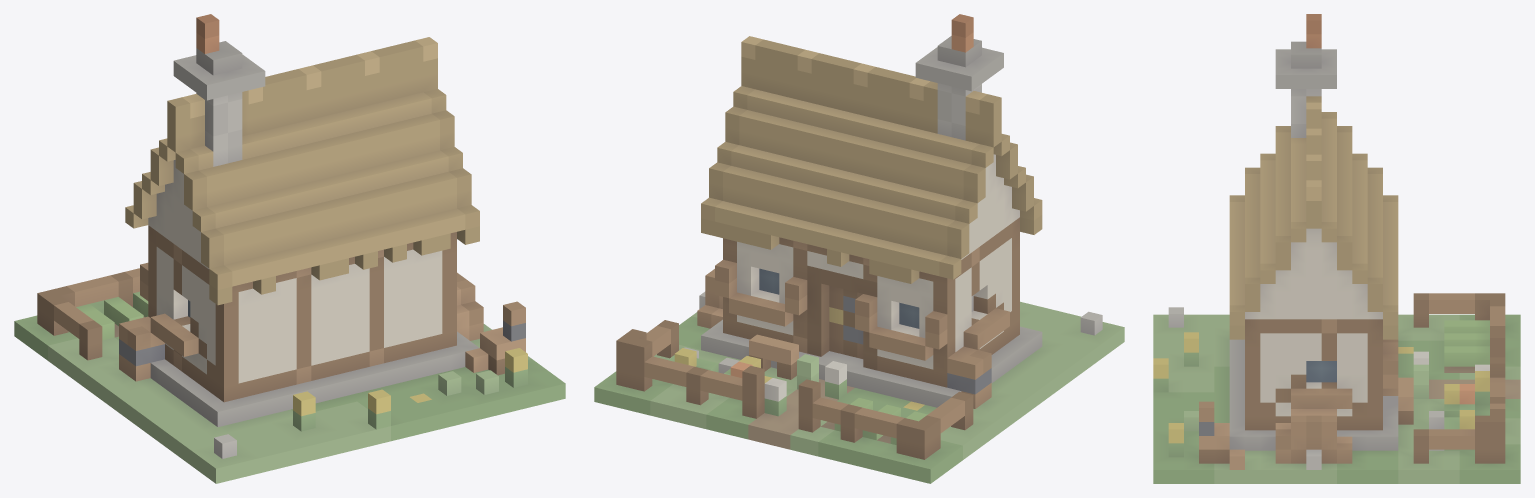
File: house_settlers.v0.glb
3 renders of one model, left to right at view 1: azimuth 30°, elevation 25°; view 2: azimuth 150°, elevation 25°; view 3: azimuth 270°, elevation 25°, orthographic. The views are drawn at different scales.
Parts seen in each view (by area): view 1: house_settlers; view 2: house_settlers; view 3: house_settlers.
Part boxes in pixels (<box>): house_settlers: <box>14,14,565,483</box>; house_settlers: <box>594,14,1124,483</box>; house_settlers: <box>1153,14,1520,483</box>.
Size of the model in its own units: 3 by 3.12 by 3.
